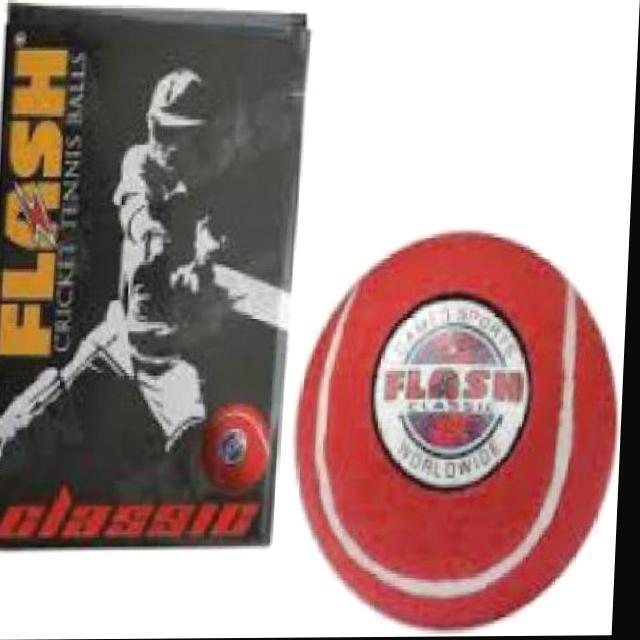-: (285, 234, 632, 633)
